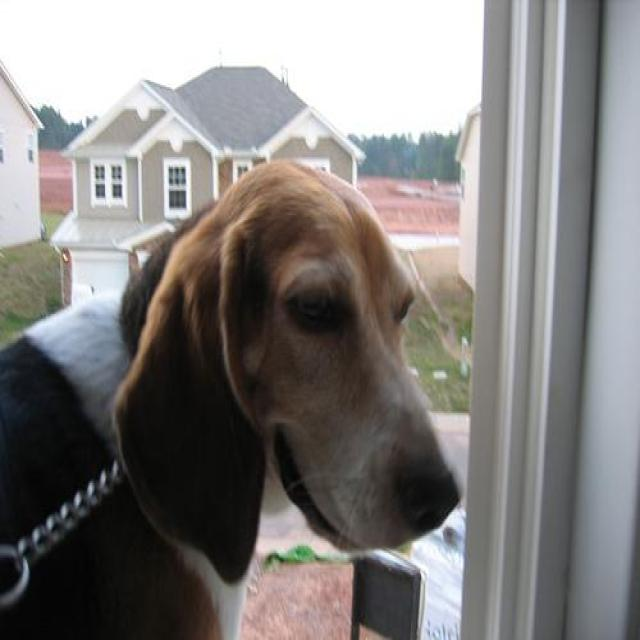beagle: (0, 160, 462, 635)
